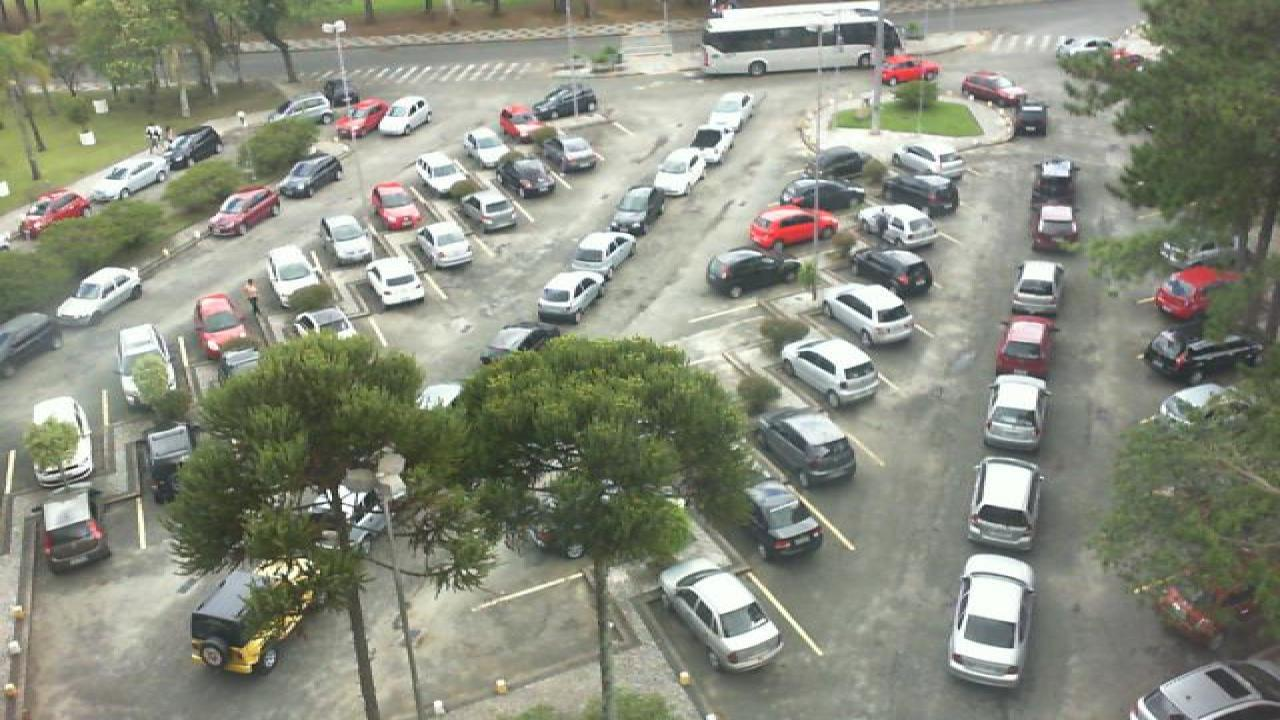Car: (658, 557, 786, 673), (946, 552, 1040, 688), (1128, 659, 1280, 720), (756, 408, 858, 485), (966, 456, 1044, 552), (780, 337, 882, 405), (1140, 327, 1264, 382), (26, 395, 96, 489), (740, 481, 826, 557), (36, 488, 114, 567), (826, 282, 918, 346), (54, 266, 144, 328), (980, 371, 1046, 452), (1152, 264, 1240, 322), (706, 248, 802, 298), (746, 204, 842, 250), (850, 246, 934, 297), (86, 156, 174, 202), (6, 190, 94, 236), (206, 185, 282, 238), (194, 291, 252, 360), (538, 269, 608, 323), (994, 317, 1058, 376), (860, 202, 942, 248), (364, 254, 428, 310), (116, 323, 170, 389), (884, 173, 960, 217), (776, 178, 868, 214), (568, 231, 638, 276), (1006, 260, 1062, 316), (160, 124, 224, 171), (318, 215, 374, 268), (276, 155, 344, 198), (894, 140, 966, 180), (266, 244, 320, 297), (414, 152, 478, 196), (486, 322, 562, 359), (370, 181, 426, 231), (648, 148, 706, 196), (294, 306, 366, 344), (680, 115, 736, 163), (608, 187, 666, 233), (496, 155, 556, 198), (330, 96, 388, 140), (540, 129, 602, 170), (462, 188, 520, 231), (1032, 204, 1082, 253), (960, 70, 1026, 107), (536, 82, 600, 120), (800, 146, 866, 182), (376, 96, 434, 136), (878, 55, 942, 87), (1032, 158, 1078, 202), (464, 126, 514, 166), (498, 104, 552, 140), (708, 91, 756, 125), (1014, 99, 1050, 136)
